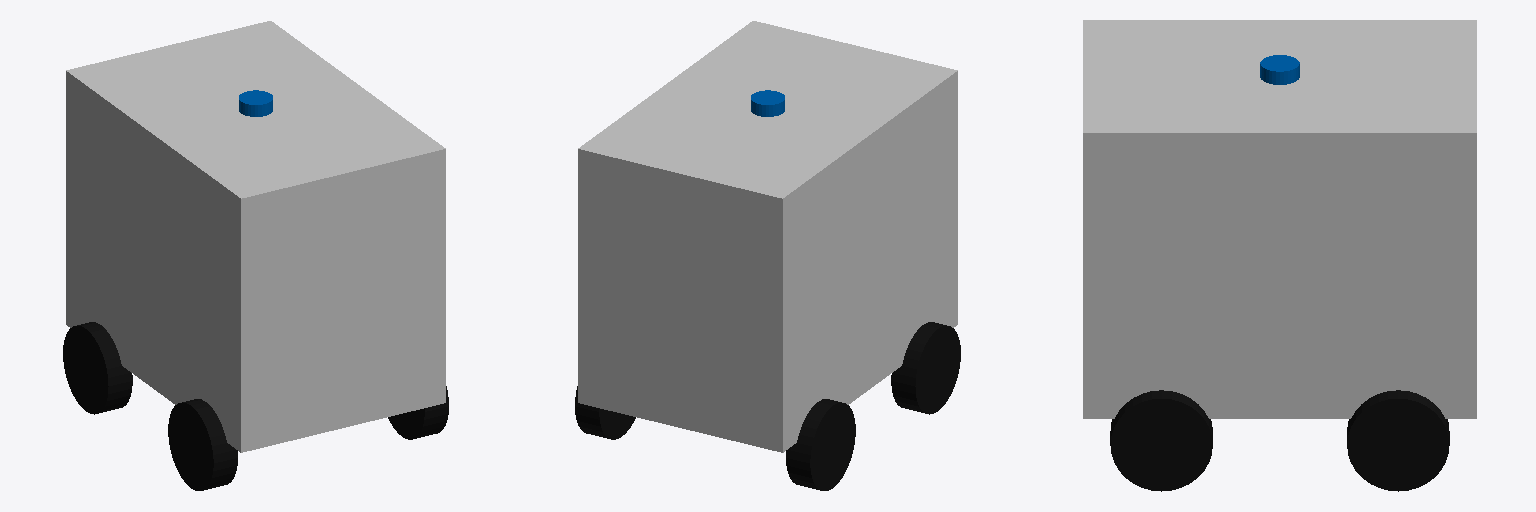
URDF robot description (origins):
<?xml version="1.0"?>
<robot name="origins">
  <material name="black">
    <color rgba="0.1 0.1 0.1 1"/>
  </material>

  <material name="gray">
    <color rgba="0.8 0.8 0.8 1"/>
  </material>

  <material name="blue">
    <color rgba="0.0 0.4 0.7 1"/>
  </material>

  <link name="base_link">
    <visual>
      <geometry>
        <box size="0.675 1.000 0.8"/>
      </geometry>
      <material name="gray"/>
      <origin rpy="0 0 0" xyz="0 0 0.0"/>
    </visual>
  </link>

  <link name="front_right_wheel">
    <visual>
      <geometry>
        <cylinder length="0.08" radius="0.13"/>
      </geometry>
      <material name="black"/>
      <origin rpy="0 1.57075 0" xyz="0.0 0.0 0.0"/>
    </visual>
  </link>

  <joint name="base_to_front_right" type="fixed">
    <parent link="base_link"/>
    <child link="front_right_wheel"/>
    <origin xyz="0.3475 0.300 -0.45"/>
  </joint>


  <link name="front_left_wheel">
    <visual>
      <geometry>
        <cylinder length="0.08" radius="0.13"/>
      </geometry>
      <material name="black"/>
      <origin rpy="0 1.57075 0" xyz="0.0 0.0 0.0"/>
    </visual>
  </link>

  <joint name="base_to_front_left" type="fixed">
    <parent link="base_link"/>
    <child link="front_left_wheel"/>
    <origin xyz="0.3475 -0.300 -0.45"/>
  </joint>



  <link name="back_right_wheel">
    <visual>
      <geometry>
        <cylinder length="0.08" radius="0.13"/>
      </geometry>
      <material name="black"/>
      <origin rpy="0 1.57075 0" xyz="0.0 0.0 0.0"/>
    </visual>
  </link>

  <joint name="base_to_back_right" type="fixed">
    <parent link="base_link"/>
    <child link="back_right_wheel"/>
    <origin xyz="-0.3475 0.300 -0.45"/>
  </joint>



  <link name="back_left_wheel">
    <visual>
      <geometry>
        <cylinder length="0.08" radius="0.13"/>
      </geometry>
      <material name="black"/>
      <origin rpy="0 1.57075 0" xyz="0.0 0.0 0.0"/>
    </visual>
  </link>

  <joint name="base_to_back_left" type="fixed">
    <parent link="base_link"/>
    <child link="back_left_wheel"/>
    <origin xyz="-0.3475 -0.300 -0.45"/>
  </joint>


  <link name="lidar">
    <visual>
      <geometry>
        <cylinder length="0.075" radius="0.05"/>
      </geometry>
      <material name="blue"/>
      <origin rpy="0 0 0" xyz="0.0 0.0 0.0"/>
    </visual>
  </link>

  <joint name="base_to_lidar" type="fixed">
    <parent link="base_link"/>
    <child link="lidar"/>
    <origin xyz="0.0 0.0 0.4"/>
  </joint>

</robot>

--- What the picture shows (computed from the rendered views, not written in the file) ---
3 views of the same robot in one strip: view 1: azimuth 30°, elevation 25°; view 2: azimuth 150°, elevation 25°; view 3: azimuth 270°, elevation 25° (orthographic).
Model origins with 6 links and 5 joints (5 fixed), rooted at base_link, posed all joints at 0.
Links seen in each view (by area): view 1: base_link, back_left_wheel, back_right_wheel, front_left_wheel, lidar; view 2: base_link, back_right_wheel, back_left_wheel, front_right_wheel, lidar; view 3: base_link, front_right_wheel, front_left_wheel, lidar.
Link boxes in pixels (x1,y1,x2,y2): base_link: (66, 21, 445, 452); back_left_wheel: (168, 399, 237, 490); back_right_wheel: (63, 322, 132, 414); front_left_wheel: (388, 386, 448, 439); lidar: (239, 90, 272, 116); base_link: (578, 21, 957, 452); back_right_wheel: (786, 399, 855, 490); back_left_wheel: (891, 322, 960, 414); front_right_wheel: (575, 386, 635, 439); lidar: (751, 90, 784, 116); base_link: (1083, 20, 1476, 418); front_right_wheel: (1347, 390, 1449, 491); front_left_wheel: (1110, 390, 1212, 491); lidar: (1260, 55, 1299, 84).
Bounding box of the posed robot: 0.775 × 1 × 1.02 m (x, y, z).
Geometry: primitives only (box / cylinder / sphere), no mesh files.